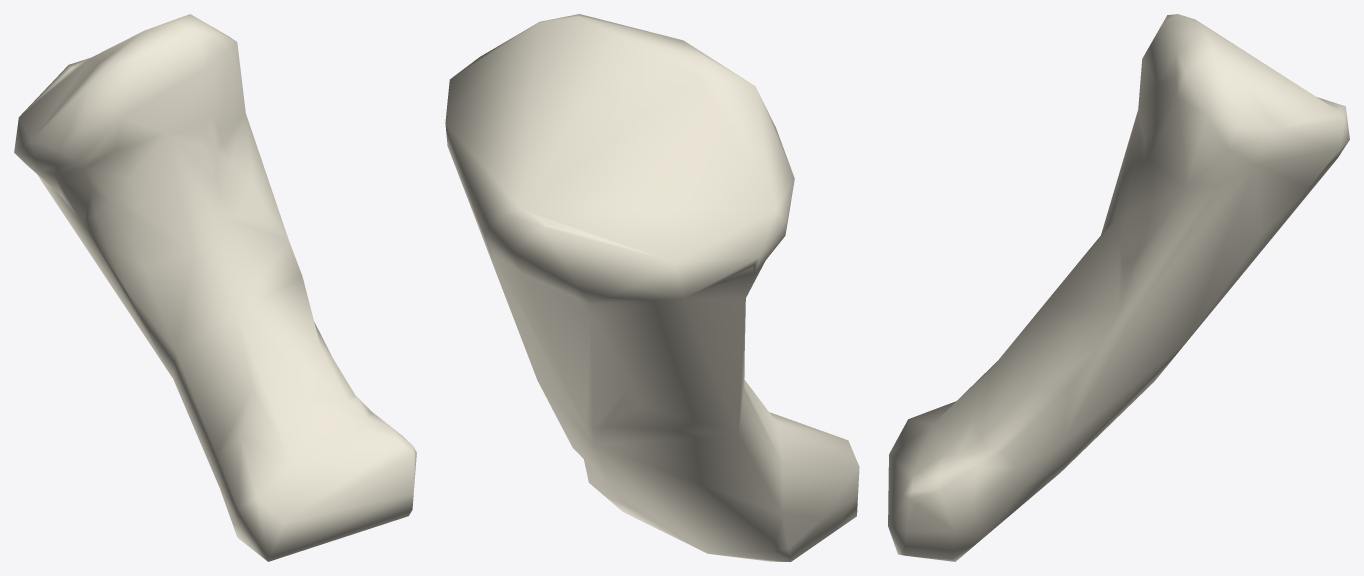
3 renders of one model, left to right at view 1: azimuth 30°, elevation 25°; view 2: azimuth 150°, elevation 25°; view 3: azimuth 270°, elevation 25°, orthographic. The views are drawn at different scales.
Parts seen in each view (by area): view 1: ZA_a4d46065b8067298; view 2: ZA_a4d46065b8067298; view 3: ZA_a4d46065b8067298.
Boxes of the visible parts, <box> form: ZA_a4d46065b8067298: <box>14,14,416,561</box>; ZA_a4d46065b8067298: <box>445,14,859,561</box>; ZA_a4d46065b8067298: <box>888,14,1349,561</box>.
Size of the model in its own units: 0.0121 by 0.0205 by 0.0173.
